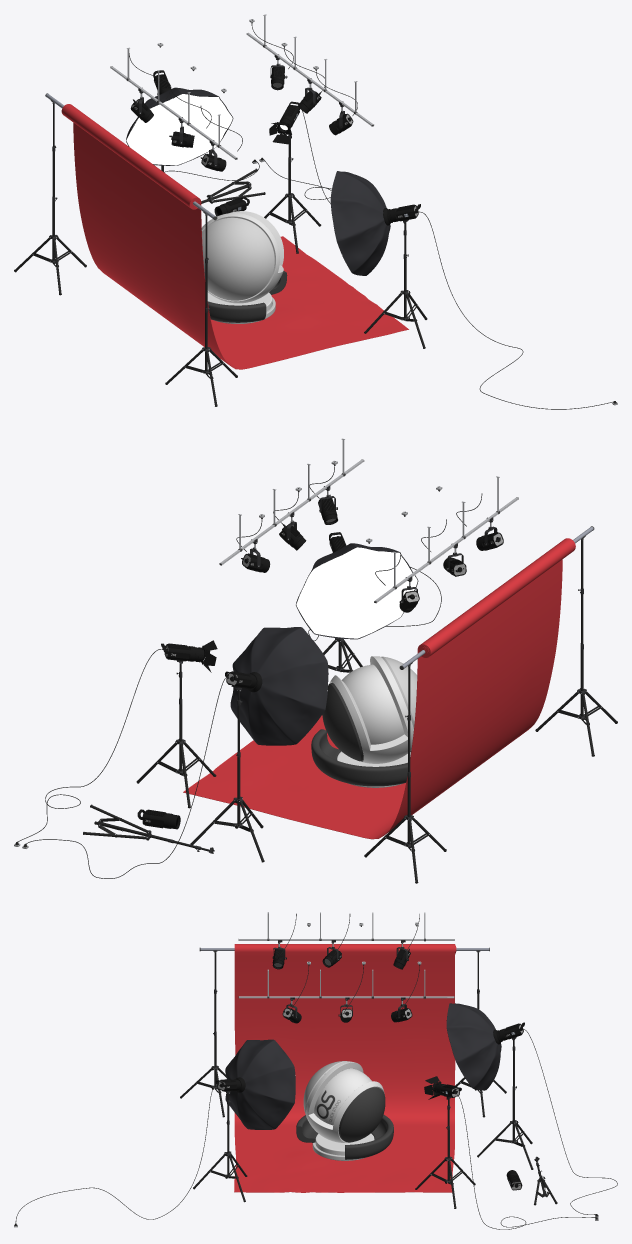
Rendered from studio.glb.
3 renders of one model, top to bottom at view 1: azimuth 30°, elevation 25°; view 2: azimuth 150°, elevation 25°; view 3: azimuth 270°, elevation 25°, orthographic. The views are drawn at different scales.
Visible parts, largest first — view 1: Studio Setup_Backdrop_1, Shader Ball, Studio Setup_Softbox_Diffuser_2, Studio Setup_Softbox_1, Studio Setup_Backdrop_Axis_1, Studio Setup_Rail_2, Studio Setup_Rail_1, Studio Setup_Softbox_2; view 2: Studio Setup_Backdrop_1, Shader Ball, Studio Setup_Softbox_2, Studio Setup_Softbox_Diffuser_1, Studio Setup_Backdrop_Axis_1, Studio Setup_Rail_1, Studio Setup_Rail_2, Studio Setup_Softbox_1, Studio Setup_Spotlight_4, Studio Setup_Spotlight_1; view 3: Studio Setup_Backdrop_1, Shader Ball, Studio Setup_Softbox_1, Studio Setup_Softbox_2, Studio Setup_Rail_1, Studio Setup_Rail_2, Studio Setup_Backdrop_Axis_1.
Boxes of the visible parts, bbox=[...] form: Studio Setup_Backdrop_1: bbox=[68, 104, 408, 369]; Shader Ball: bbox=[201, 211, 287, 323]; Studio Setup_Softbox_Diffuser_2: bbox=[126, 94, 232, 165]; Studio Setup_Softbox_1: bbox=[330, 171, 390, 275]; Studio Setup_Backdrop_Axis_1: bbox=[45, 93, 217, 220]; Studio Setup_Rail_2: bbox=[110, 47, 237, 159]; Studio Setup_Rail_1: bbox=[246, 14, 373, 126]; Studio Setup_Softbox_2: bbox=[126, 87, 233, 165]; Studio Setup_Backdrop_1: bbox=[183, 538, 568, 839]; Shader Ball: bbox=[311, 656, 417, 787]; Studio Setup_Softbox_2: bbox=[230, 627, 328, 745]; Studio Setup_Softbox_Diffuser_1: bbox=[296, 547, 417, 638]; Studio Setup_Backdrop_Axis_1: bbox=[399, 526, 594, 669]; Studio Setup_Rail_1: bbox=[219, 438, 364, 565]; Studio Setup_Rail_2: bbox=[374, 476, 518, 603]; Studio Setup_Softbox_1: bbox=[296, 543, 418, 639]; Studio Setup_Spotlight_4: bbox=[137, 809, 180, 829]; Studio Setup_Spotlight_1: bbox=[161, 643, 202, 661]; Studio Setup_Backdrop_1: bbox=[234, 944, 455, 1192]; Shader Ball: bbox=[296, 1061, 393, 1160]; Studio Setup_Softbox_1: bbox=[225, 1039, 295, 1129]; Studio Setup_Softbox_2: bbox=[446, 1003, 501, 1090]; Studio Setup_Rail_1: bbox=[238, 969, 454, 998]; Studio Setup_Rail_2: bbox=[238, 912, 454, 941]; Studio Setup_Backdrop_Axis_1: bbox=[199, 944, 489, 954].
Bounding box in the file's own units: 4.25 × 3.03 × 7.85.
21 materials, 2 textured.
